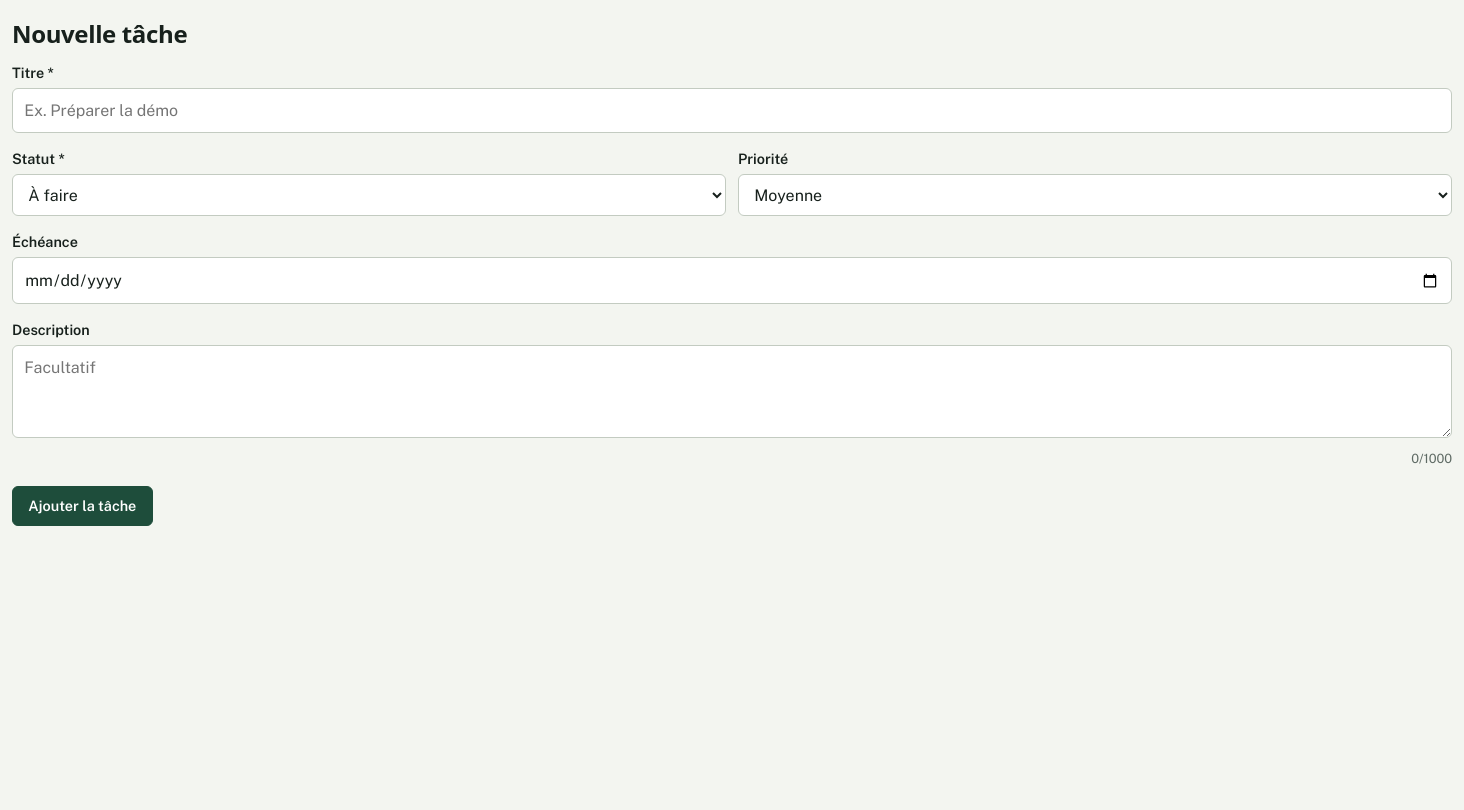
it: <TaskForm /> › envoie un objet conforme au contrat puis vide le formulaire
The width and height of the screenshot is (1464, 810).
Type "  Préparer la démo  " into the field labelled "Titre *" at (732, 111), box [12,88,1452,134]
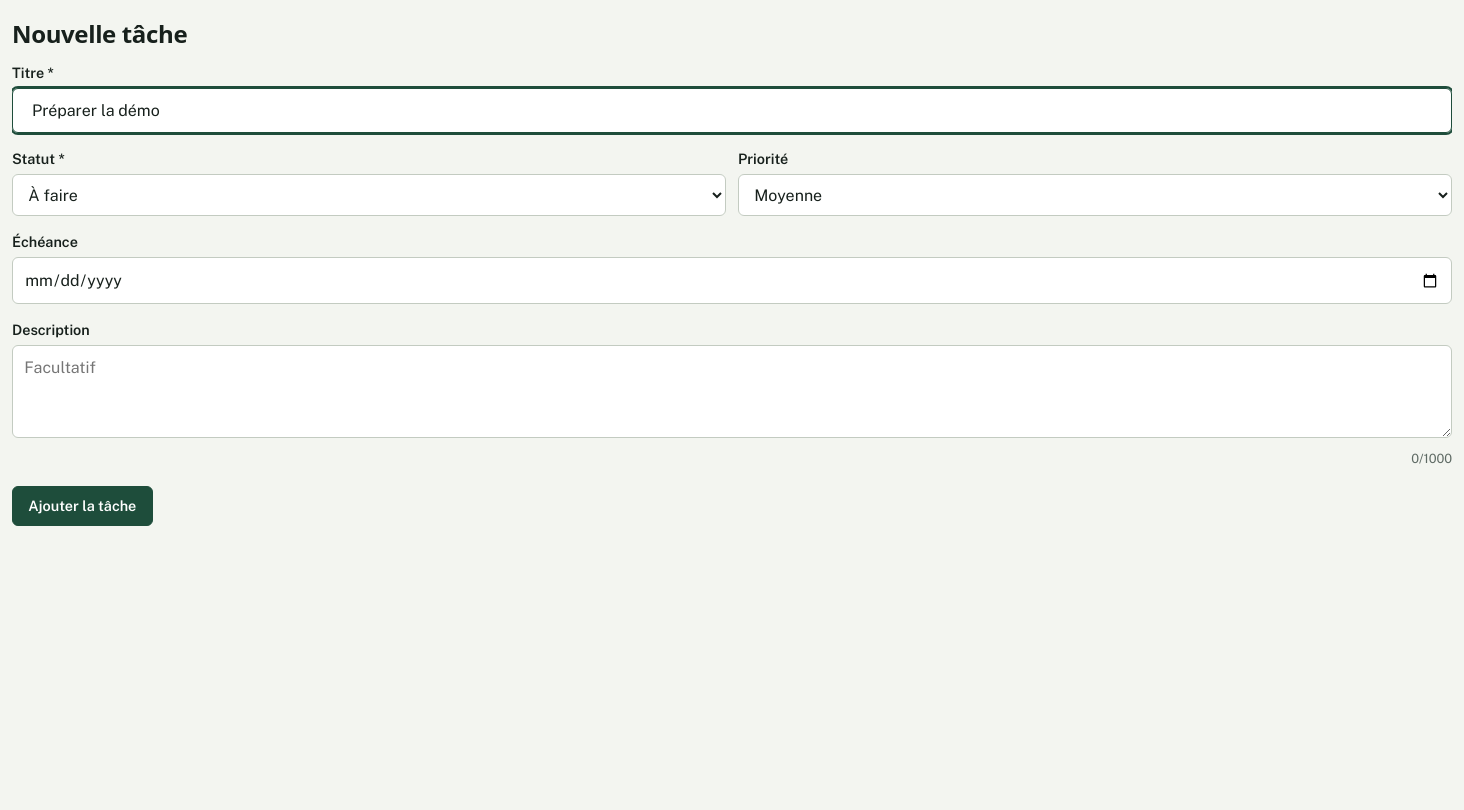
Select "En cours" in the dropdown labelled "Statut *" at (369, 195), box [12,174,726,216]
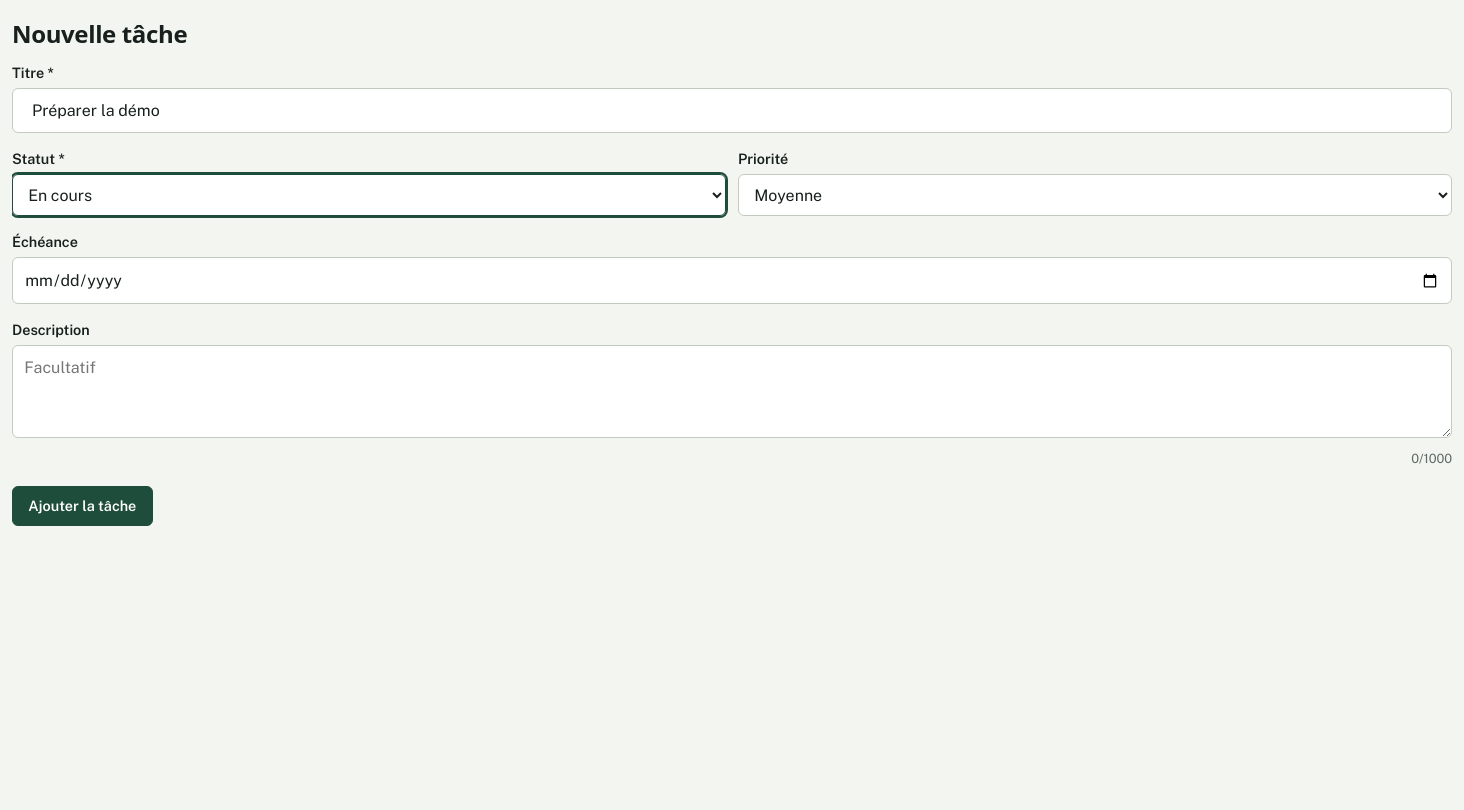
Select "Haute" in the dropdown labelled "Priorité" at (1095, 195), box [738,174,1452,216]
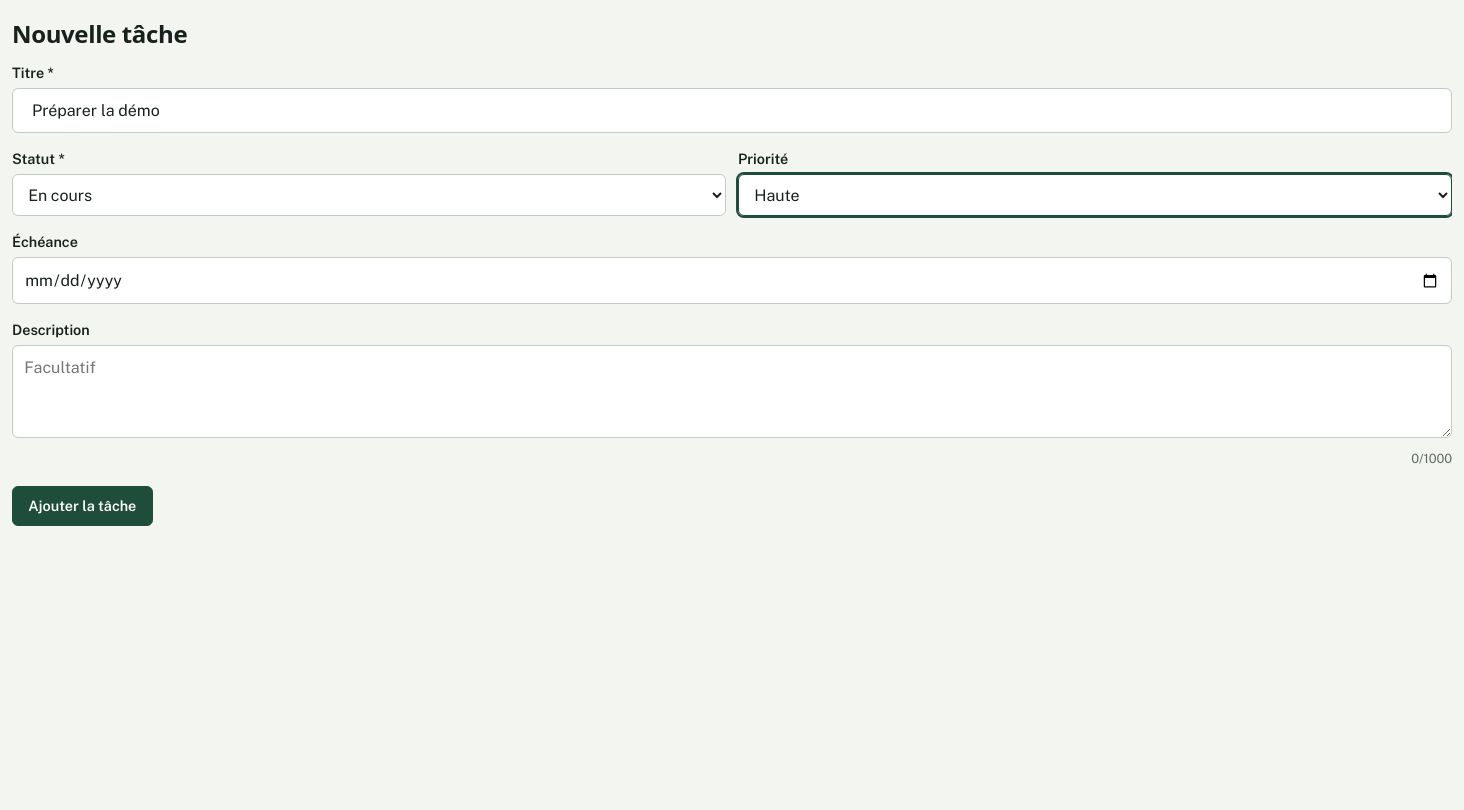
Type "Plan" into the text box labelled "Description" at (732, 392), box [12,345,1452,438]
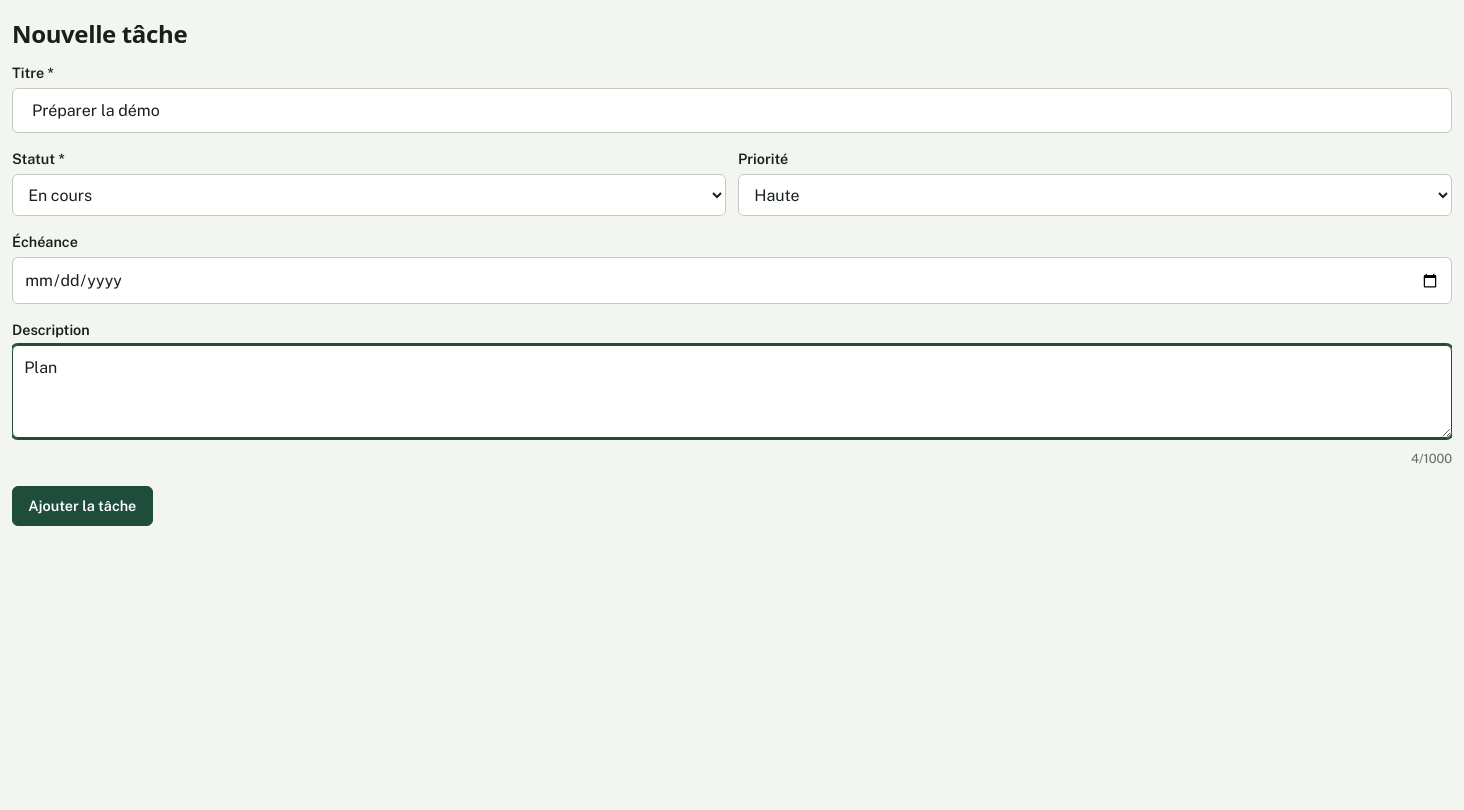
Click the button "Ajouter la tâche" at (82, 506), box [12,486,152,526]
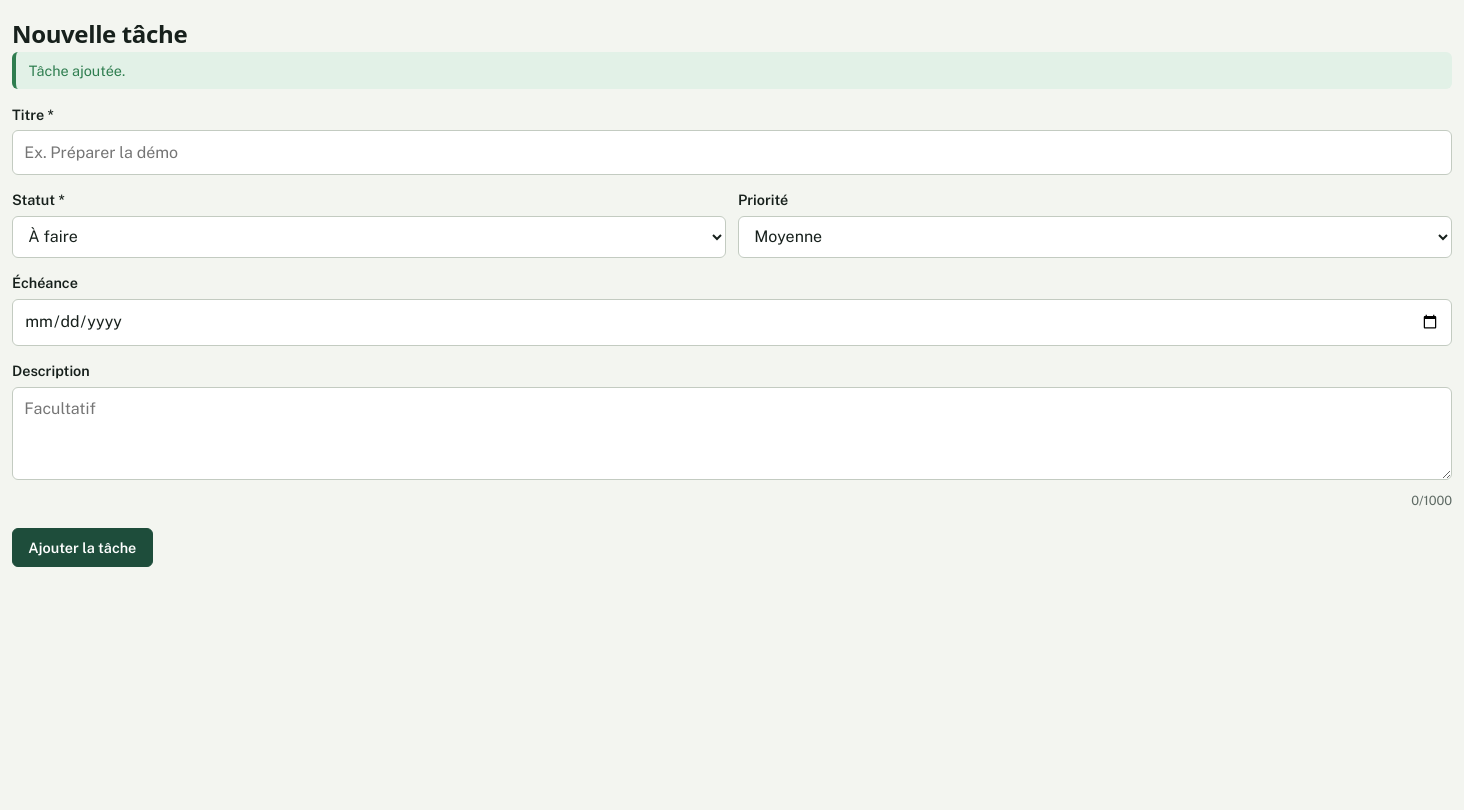
Now the message reads "Tâche ajoutée.", box [29,62,125,78]
Now the field labelled "Titre *" is empty, box [12,130,1452,175]
